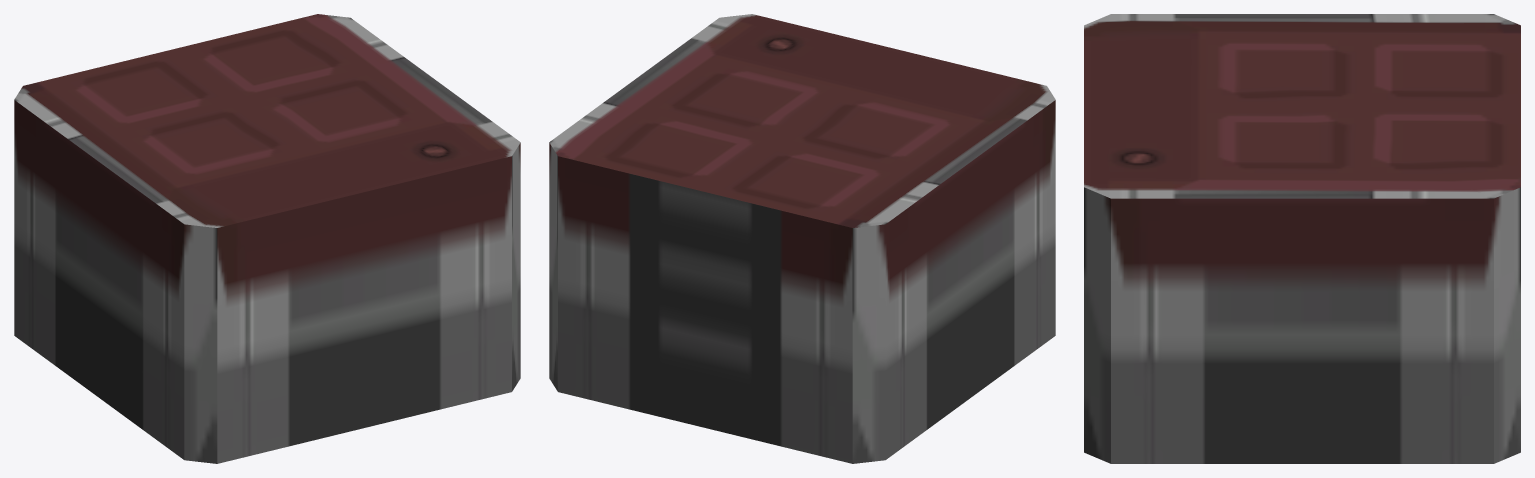
The model's file is Building_ChemfuelTank.obj.
3 views of the same model, side by side, from view 1: azimuth 30°, elevation 25°; view 2: azimuth 150°, elevation 25°; view 3: azimuth 270°, elevation 25° (orthographic). The views are drawn at different scales.
Parts seen in each view (by area): view 1: Body; view 2: Body; view 3: Body.
Boxes of the visible parts, <box> form: Body: <box>14,14,520,463</box>; Body: <box>549,14,1055,463</box>; Body: <box>1084,14,1520,463</box>.
Bounding box in the file's own units: 1.94 × 1.3 × 1.94.
1 material, 1 textured.
